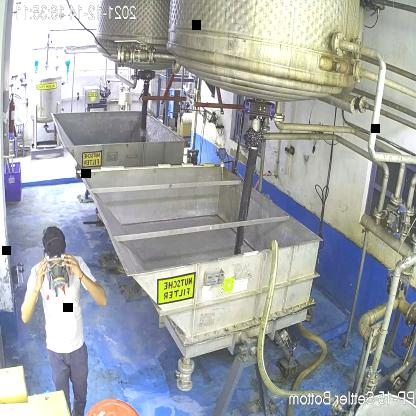goggles: (43, 252, 70, 272)
mask: (46, 259, 68, 294)
